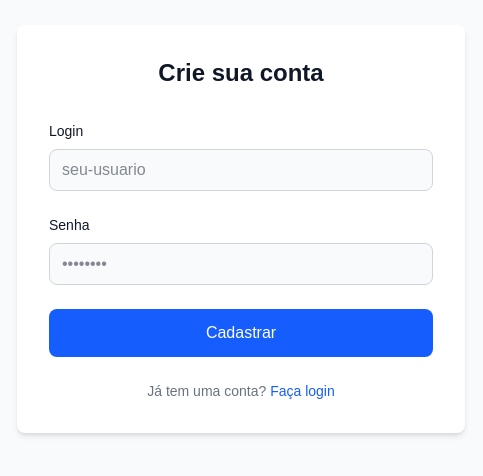
Scenario: RegisterPage › deve exibir uma mensagem de erro se o registro falhar
Type "existinguser" into the field labelled "Login" at point(241, 170), box x1=49 y1=149 x2=433 y2=191
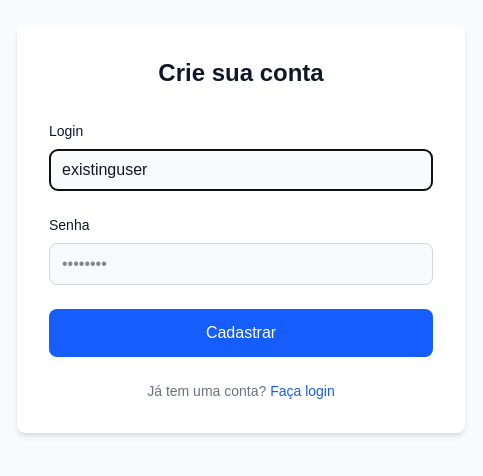
Type "password123" into the password field labelled "Senha" at point(241, 264), box x1=49 y1=243 x2=433 y2=285
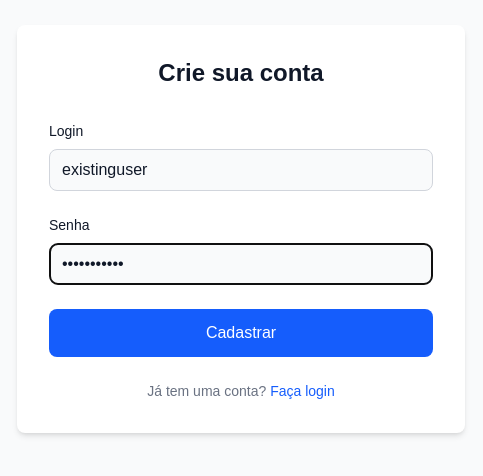
Click the button "Cadastrar" at point(241, 333), box x1=49 y1=309 x2=433 y2=357
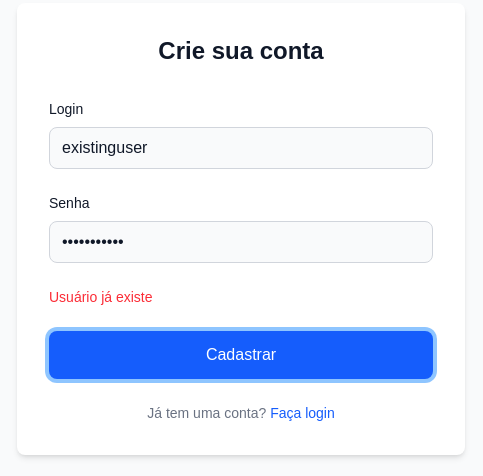
Expected: the text "Usuário já existe" is shown, x1=49 y1=289 x2=152 y2=305
